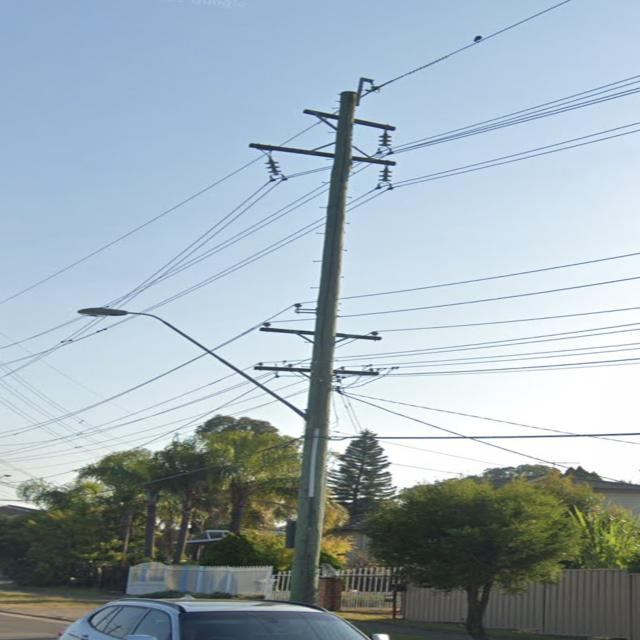HV-transmission: (250, 77, 394, 191)
crossarm: (247, 142, 396, 167), (301, 108, 401, 132), (262, 326, 384, 342), (255, 366, 379, 378)
streetlight: (77, 304, 305, 420)
timber-pole: (291, 92, 360, 603)
